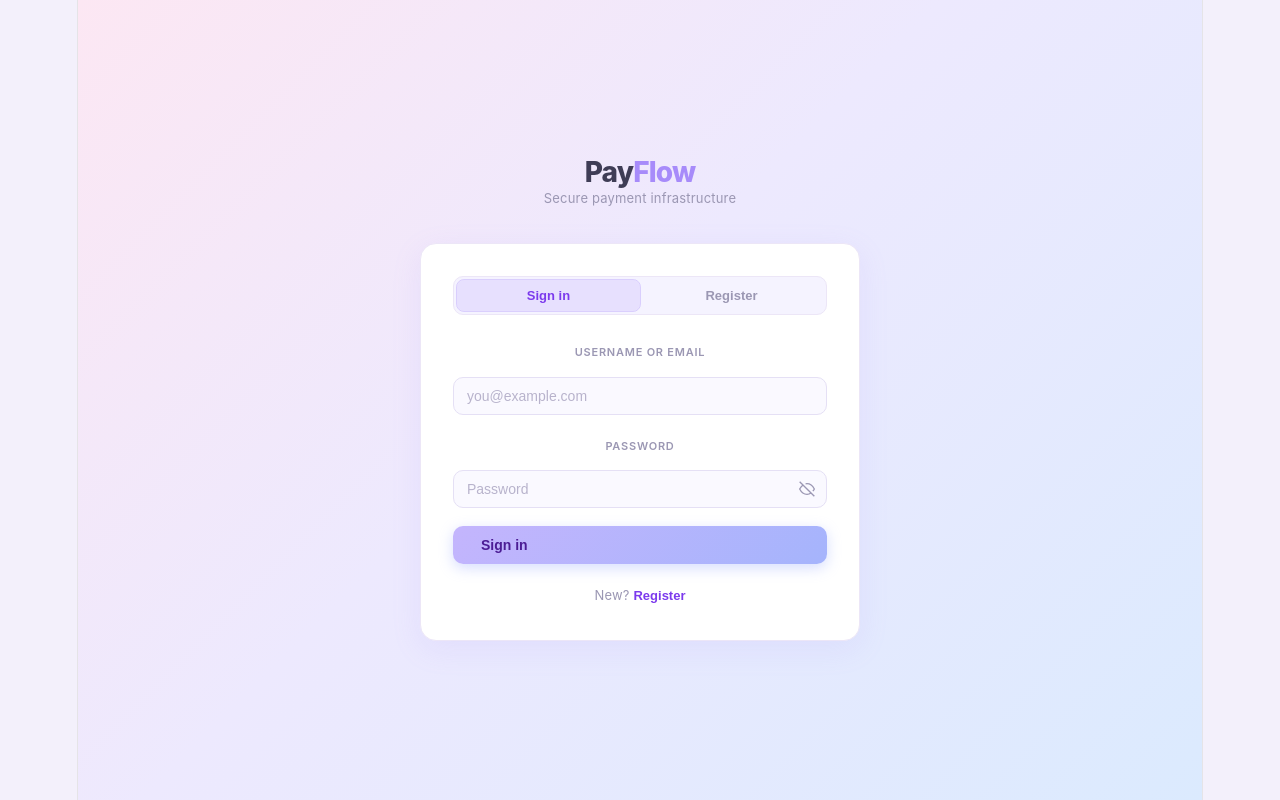
Scenario: App — session bootstrap & auth routing › logs in and lands on the payment history screen
This screenshot has width=1280, height=800.
Expected: the text "Secure payment infrastructure" is shown, [544,190,736,206]
In the field with placeholder "you@example.com": [640, 396] box [453,376,827,414], type "jsmith42"
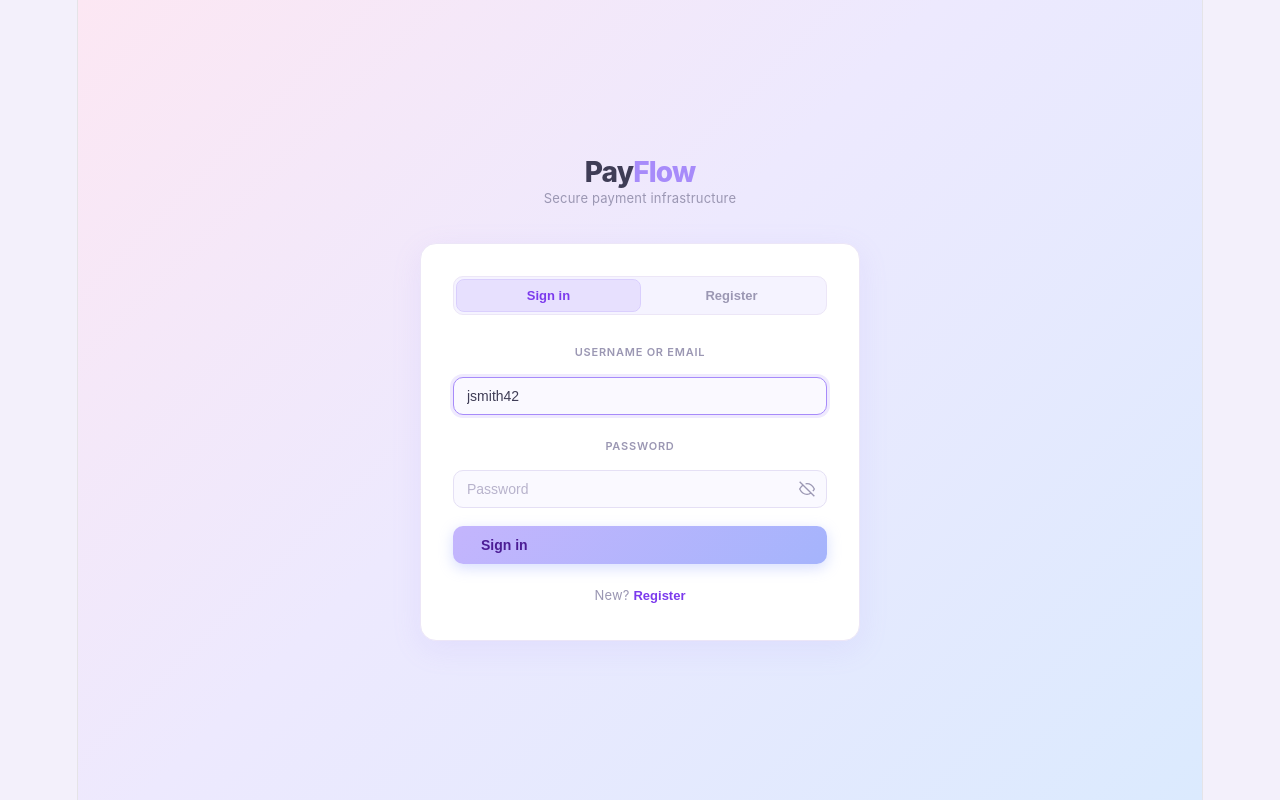
In the password field with placeholder "Password": [640, 489] box [453,470,827,508], type "Str0ng@Pass1"
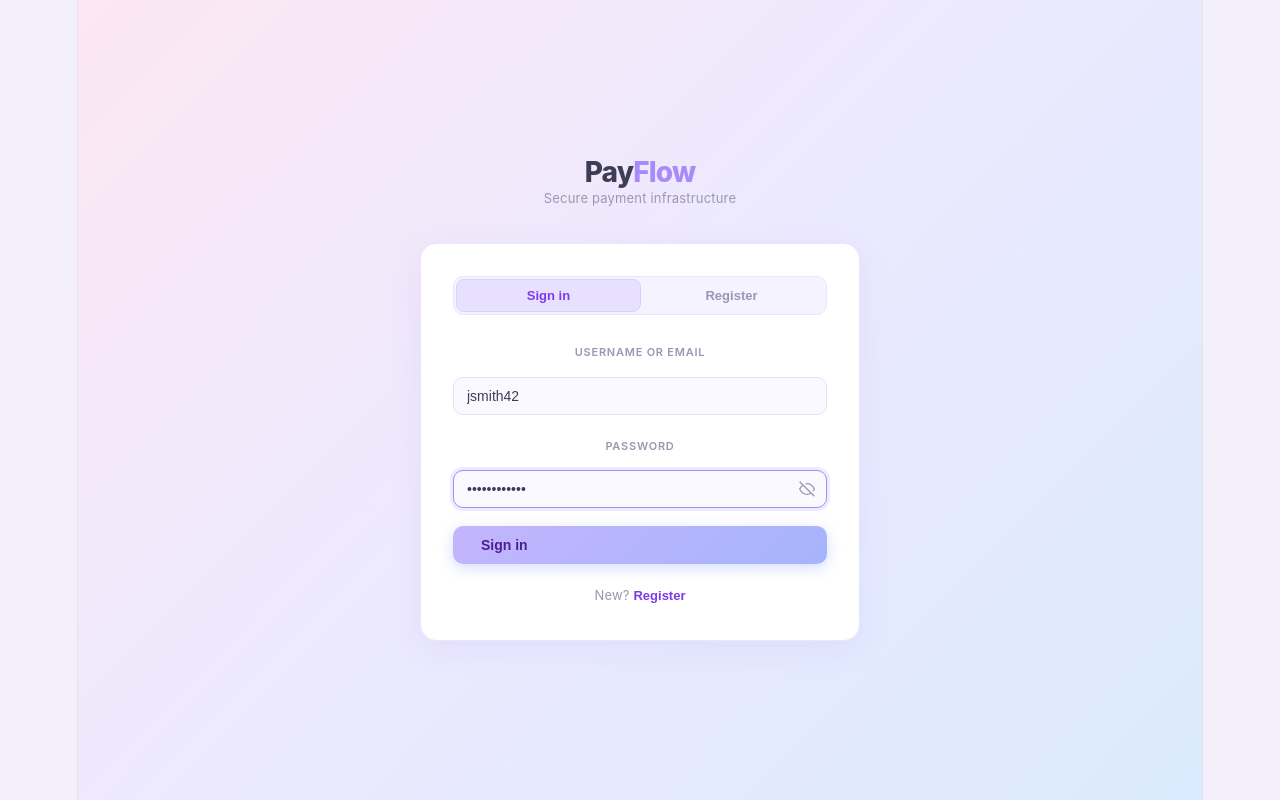
Click the button "Sign in" below "Password": [504, 545] box [453,526,827,564]
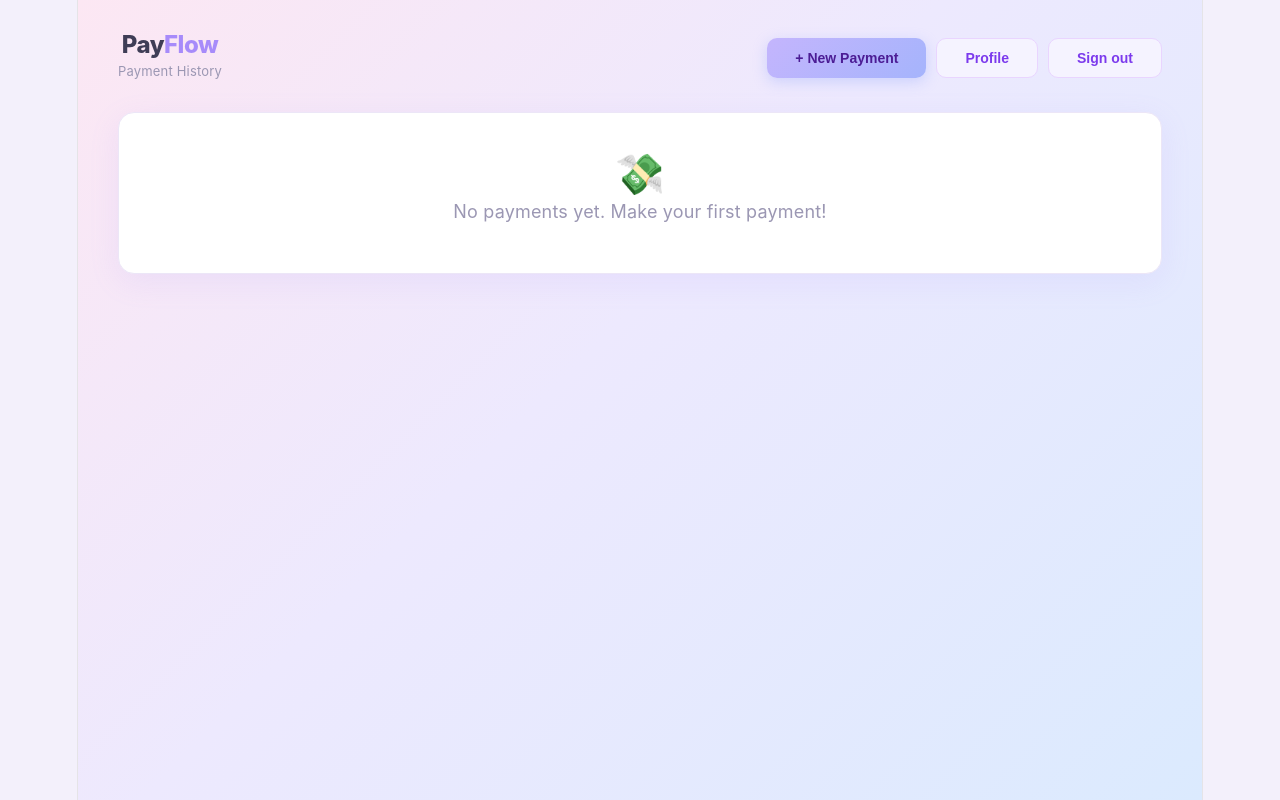
Now the text "Payment History" is shown, box [118,58,222,84]
Now the text "No payments yet. Make your first payment!" is shown, box [453,201,827,222]
